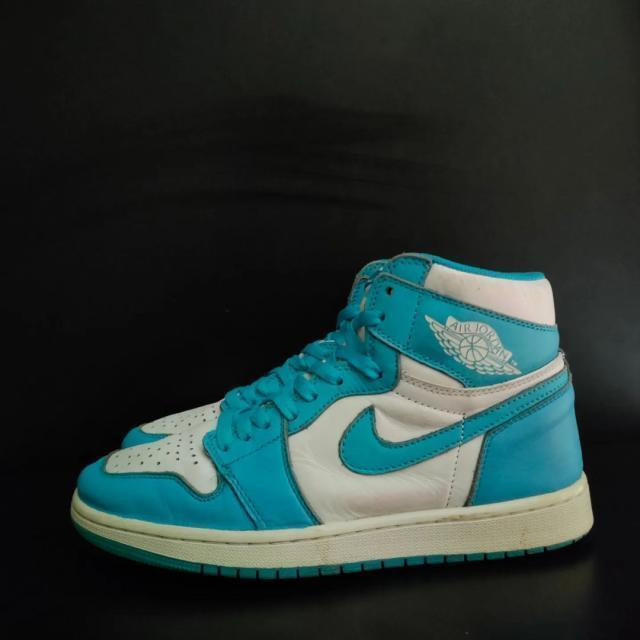nike original jordan 1: (66, 252, 600, 578)
